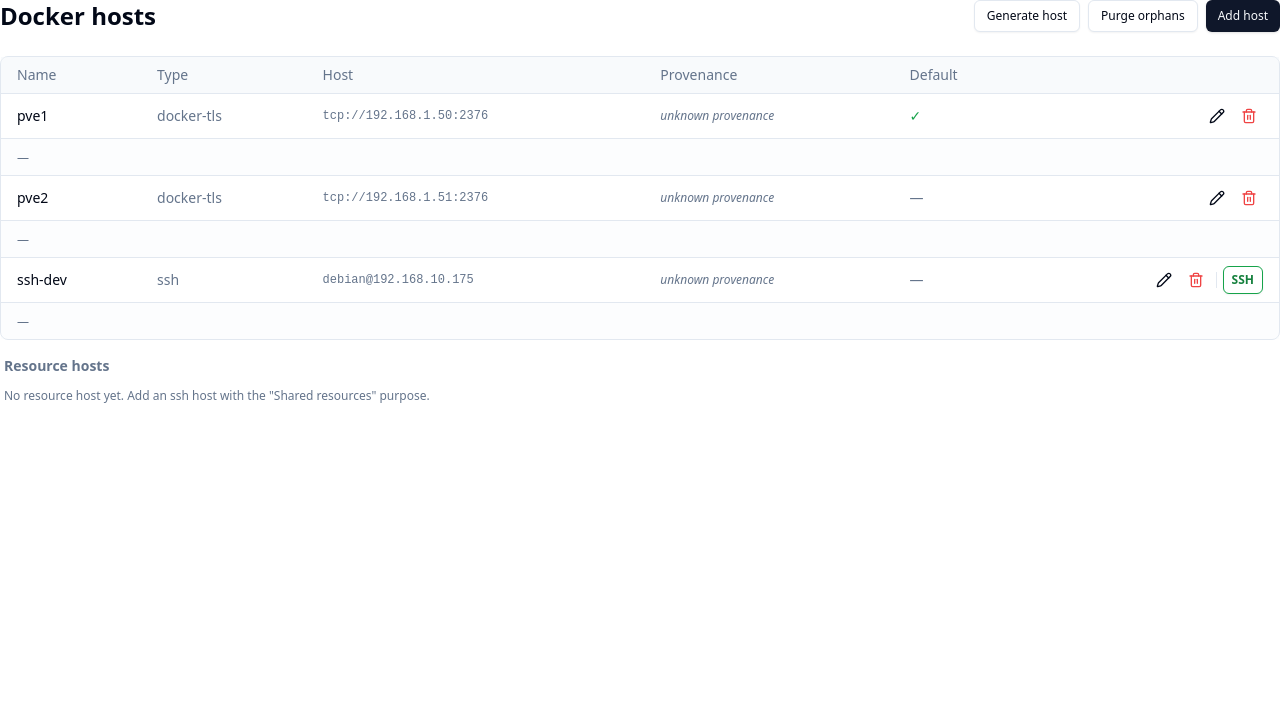
AdminHosts › propose la destination dans le formulaire d'ajout d'host
expect the text "pve1" is shown: met, box [1,94,141,138]
Click the button "Add host".
click(1243, 16)  # box [1206,0,1279,32]
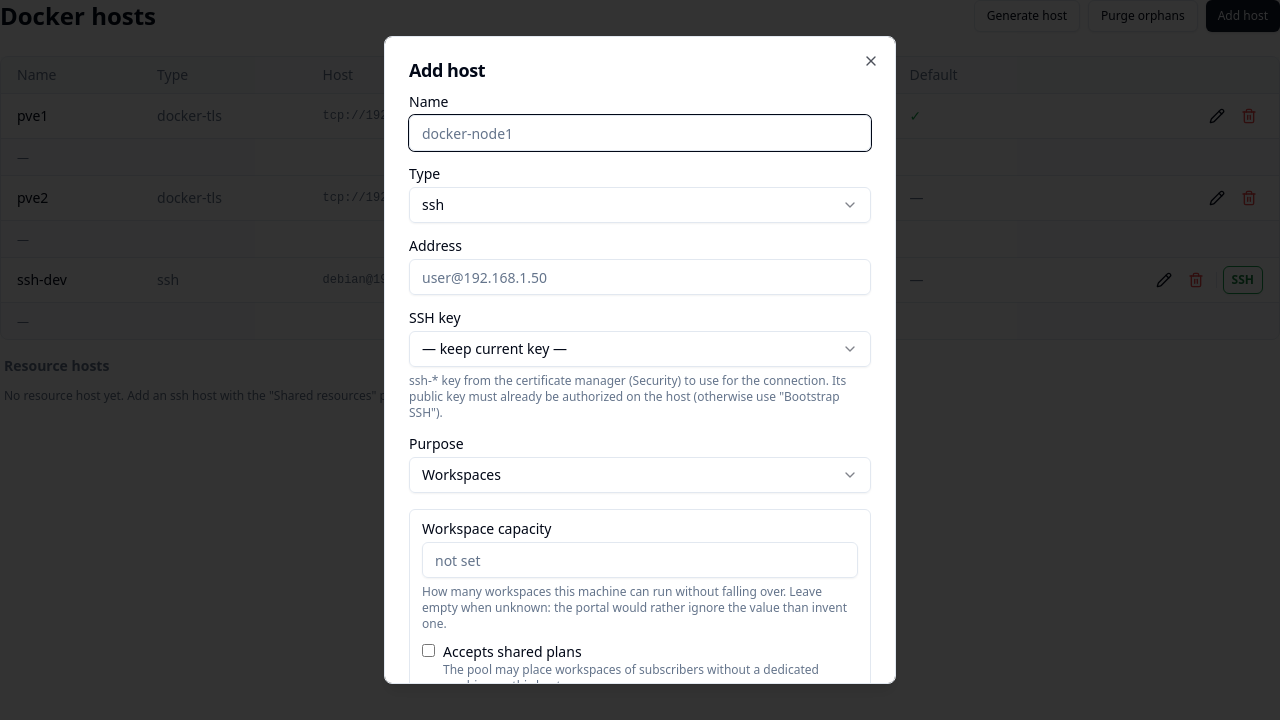
expect the text "Purpose" is shown: met, box [409,434,464,453]
